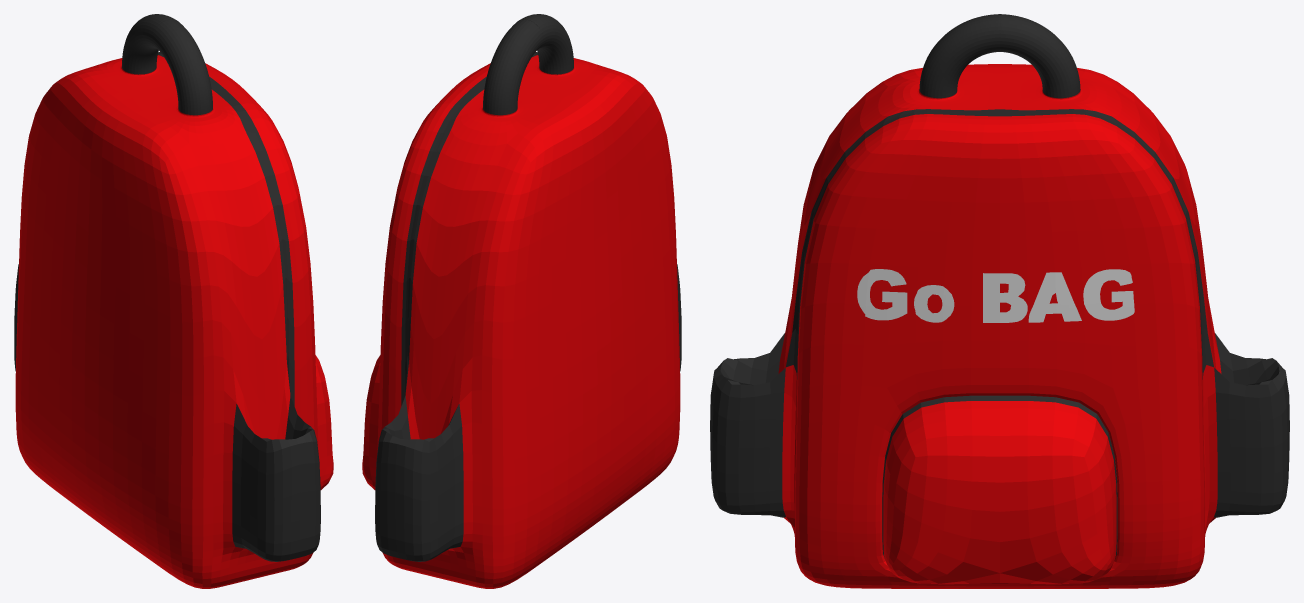
Rendered from Emergency GO Bag(1).fbx.
3 renders of one model, left to right at view 1: azimuth 30°, elevation 25°; view 2: azimuth 150°, elevation 25°; view 3: azimuth 270°, elevation 25°, orthographic. The views are drawn at different scales.
Parts seen in each view (by area): view 1: Bag; view 2: Bag; view 3: Bag, Go Text.
Boxes of the visible parts, x1=… form: Bag: x1=14, y1=14, x2=333, y2=588; Bag: x1=362, y1=14, x2=681, y2=588; Bag: x1=710, y1=14, x2=1289, y2=588; Go Text: x1=857, y1=269, x2=1134, y2=322.
Size of the model in its own units: 254 by 571 by 548.
